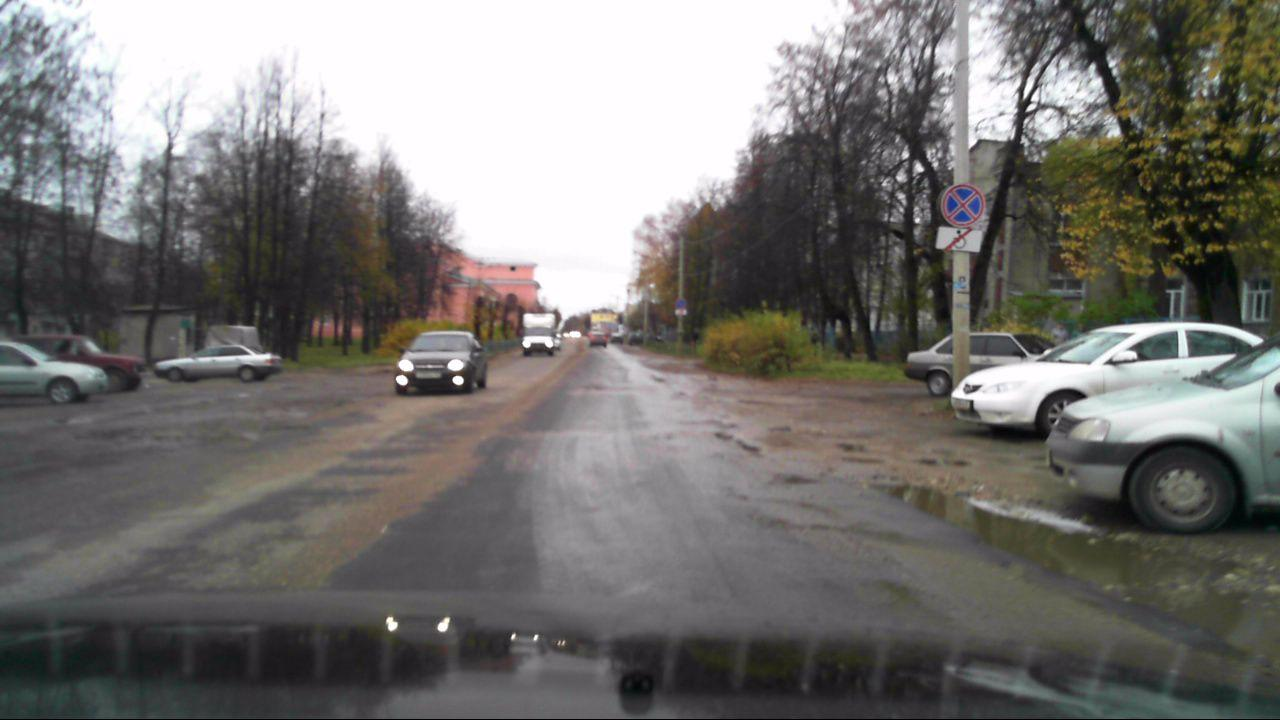3_27: (939, 184, 986, 227)
3_28: (674, 297, 687, 309)
8_18: (934, 226, 983, 253), (674, 309, 687, 316)
